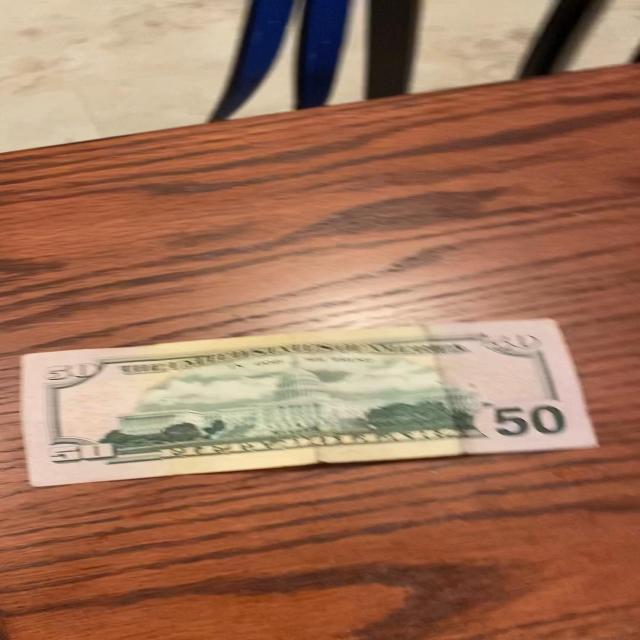50-Back: (12, 314, 598, 492)
